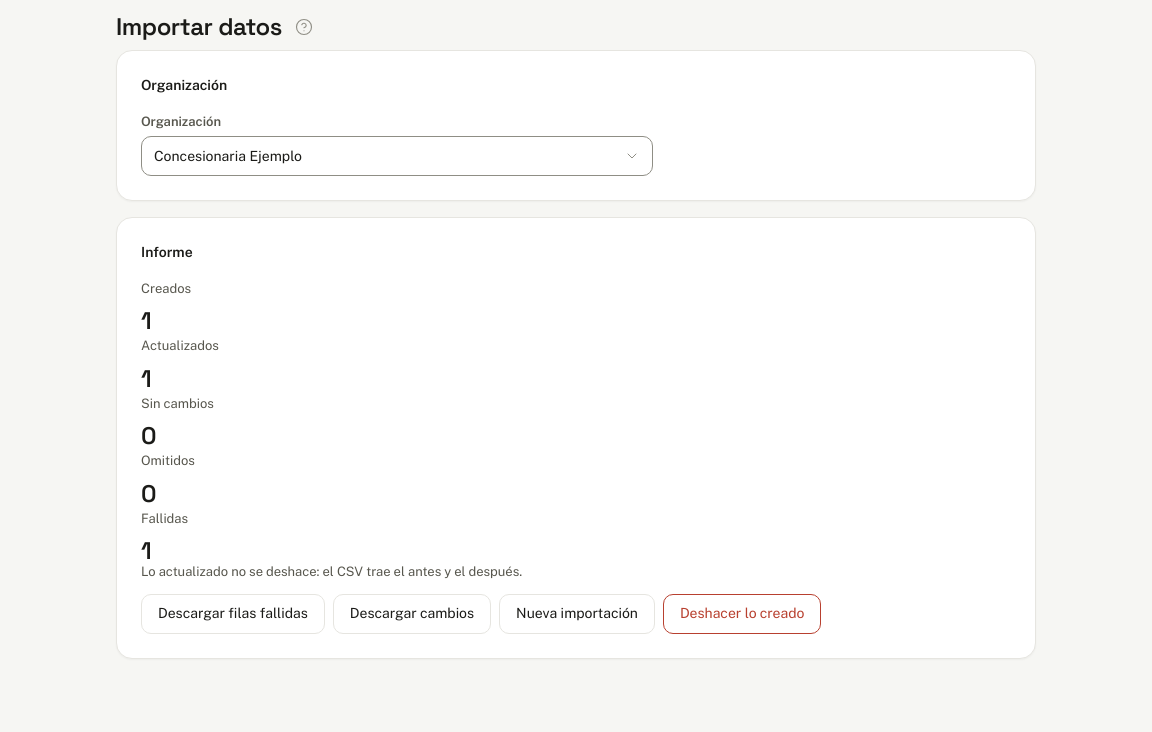
ImportarDatosPage › deshacer: desde el informe, con confirmación; la deshecha muestra lo borrado y lo que se dejó con su motivo
What coordinates should you click on to do the following:
click the button "Deshacer lo creado"
I would click on:
 (742, 614)
Its box is [663, 594, 821, 634].
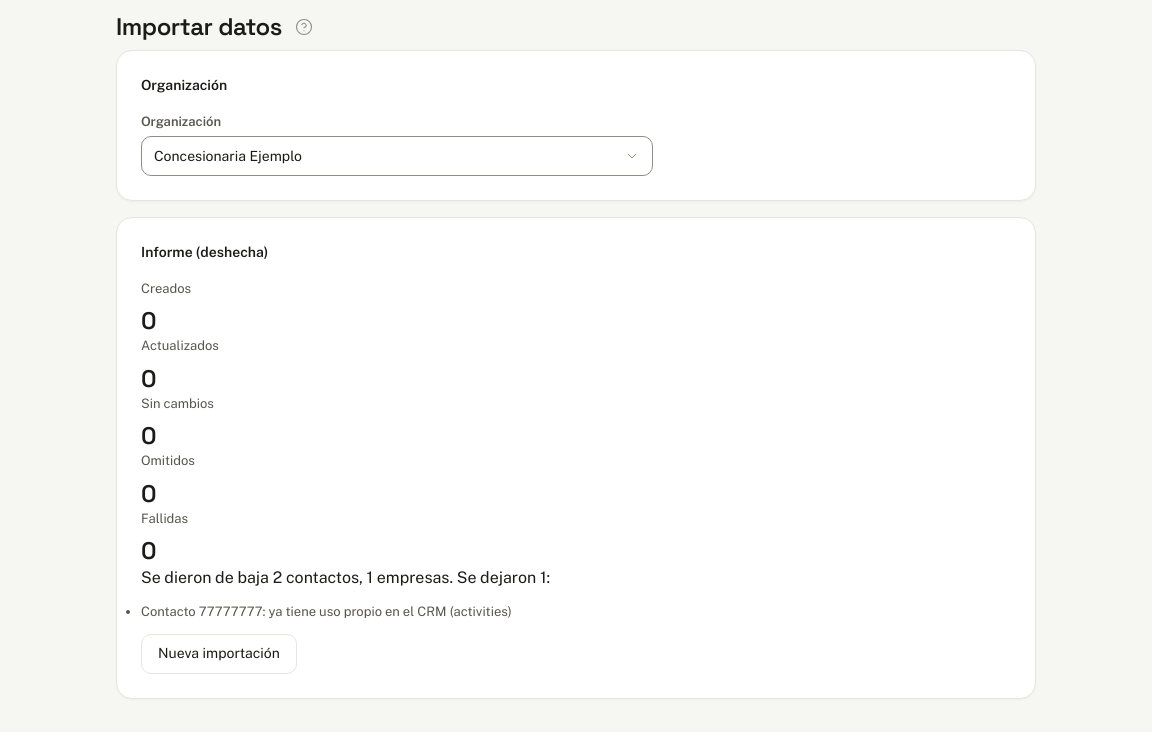
Expected: the text "Se dieron de baja 2 contactos, 1 empresas. Se dejaron 1:" is shown, [141, 568, 550, 587]
Expected: the list item "ya tiene uso propio en el CRM (activities)" is shown, [268, 604, 512, 619]
Expected: the button "Deshacer lo creado" is gone
